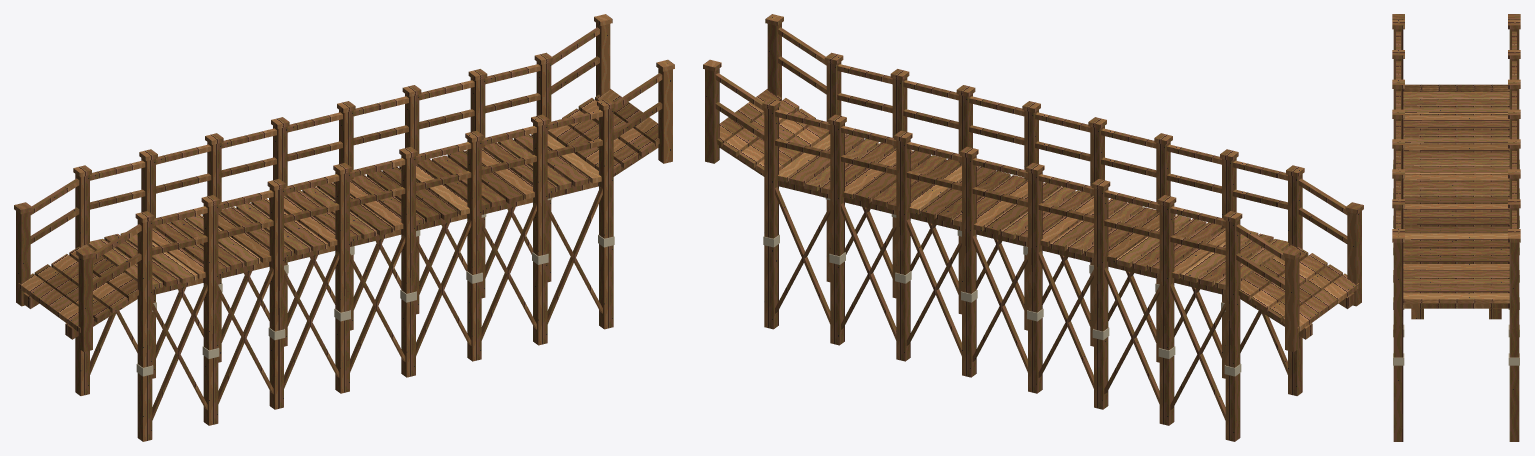
The model's file is timber_teaching_bridge.glb.
The picture shows the model from 3 angles, left to right: view 1: azimuth 30°, elevation 25°; view 2: azimuth 150°, elevation 25°; view 3: azimuth 270°, elevation 25°; orthographic projection. The views are drawn at different scales.
Visible parts, largest first — view 1: BridgeBody; view 2: BridgeBody; view 3: BridgeBody.
Part boxes in pixels (x1,y1,x2,y2): BridgeBody: (14, 14, 674, 441); BridgeBody: (703, 14, 1363, 441); BridgeBody: (1392, 14, 1520, 441).
Size of the model in its own units: 9 by 3.6 by 1.82.
4 materials, 3 textured.
